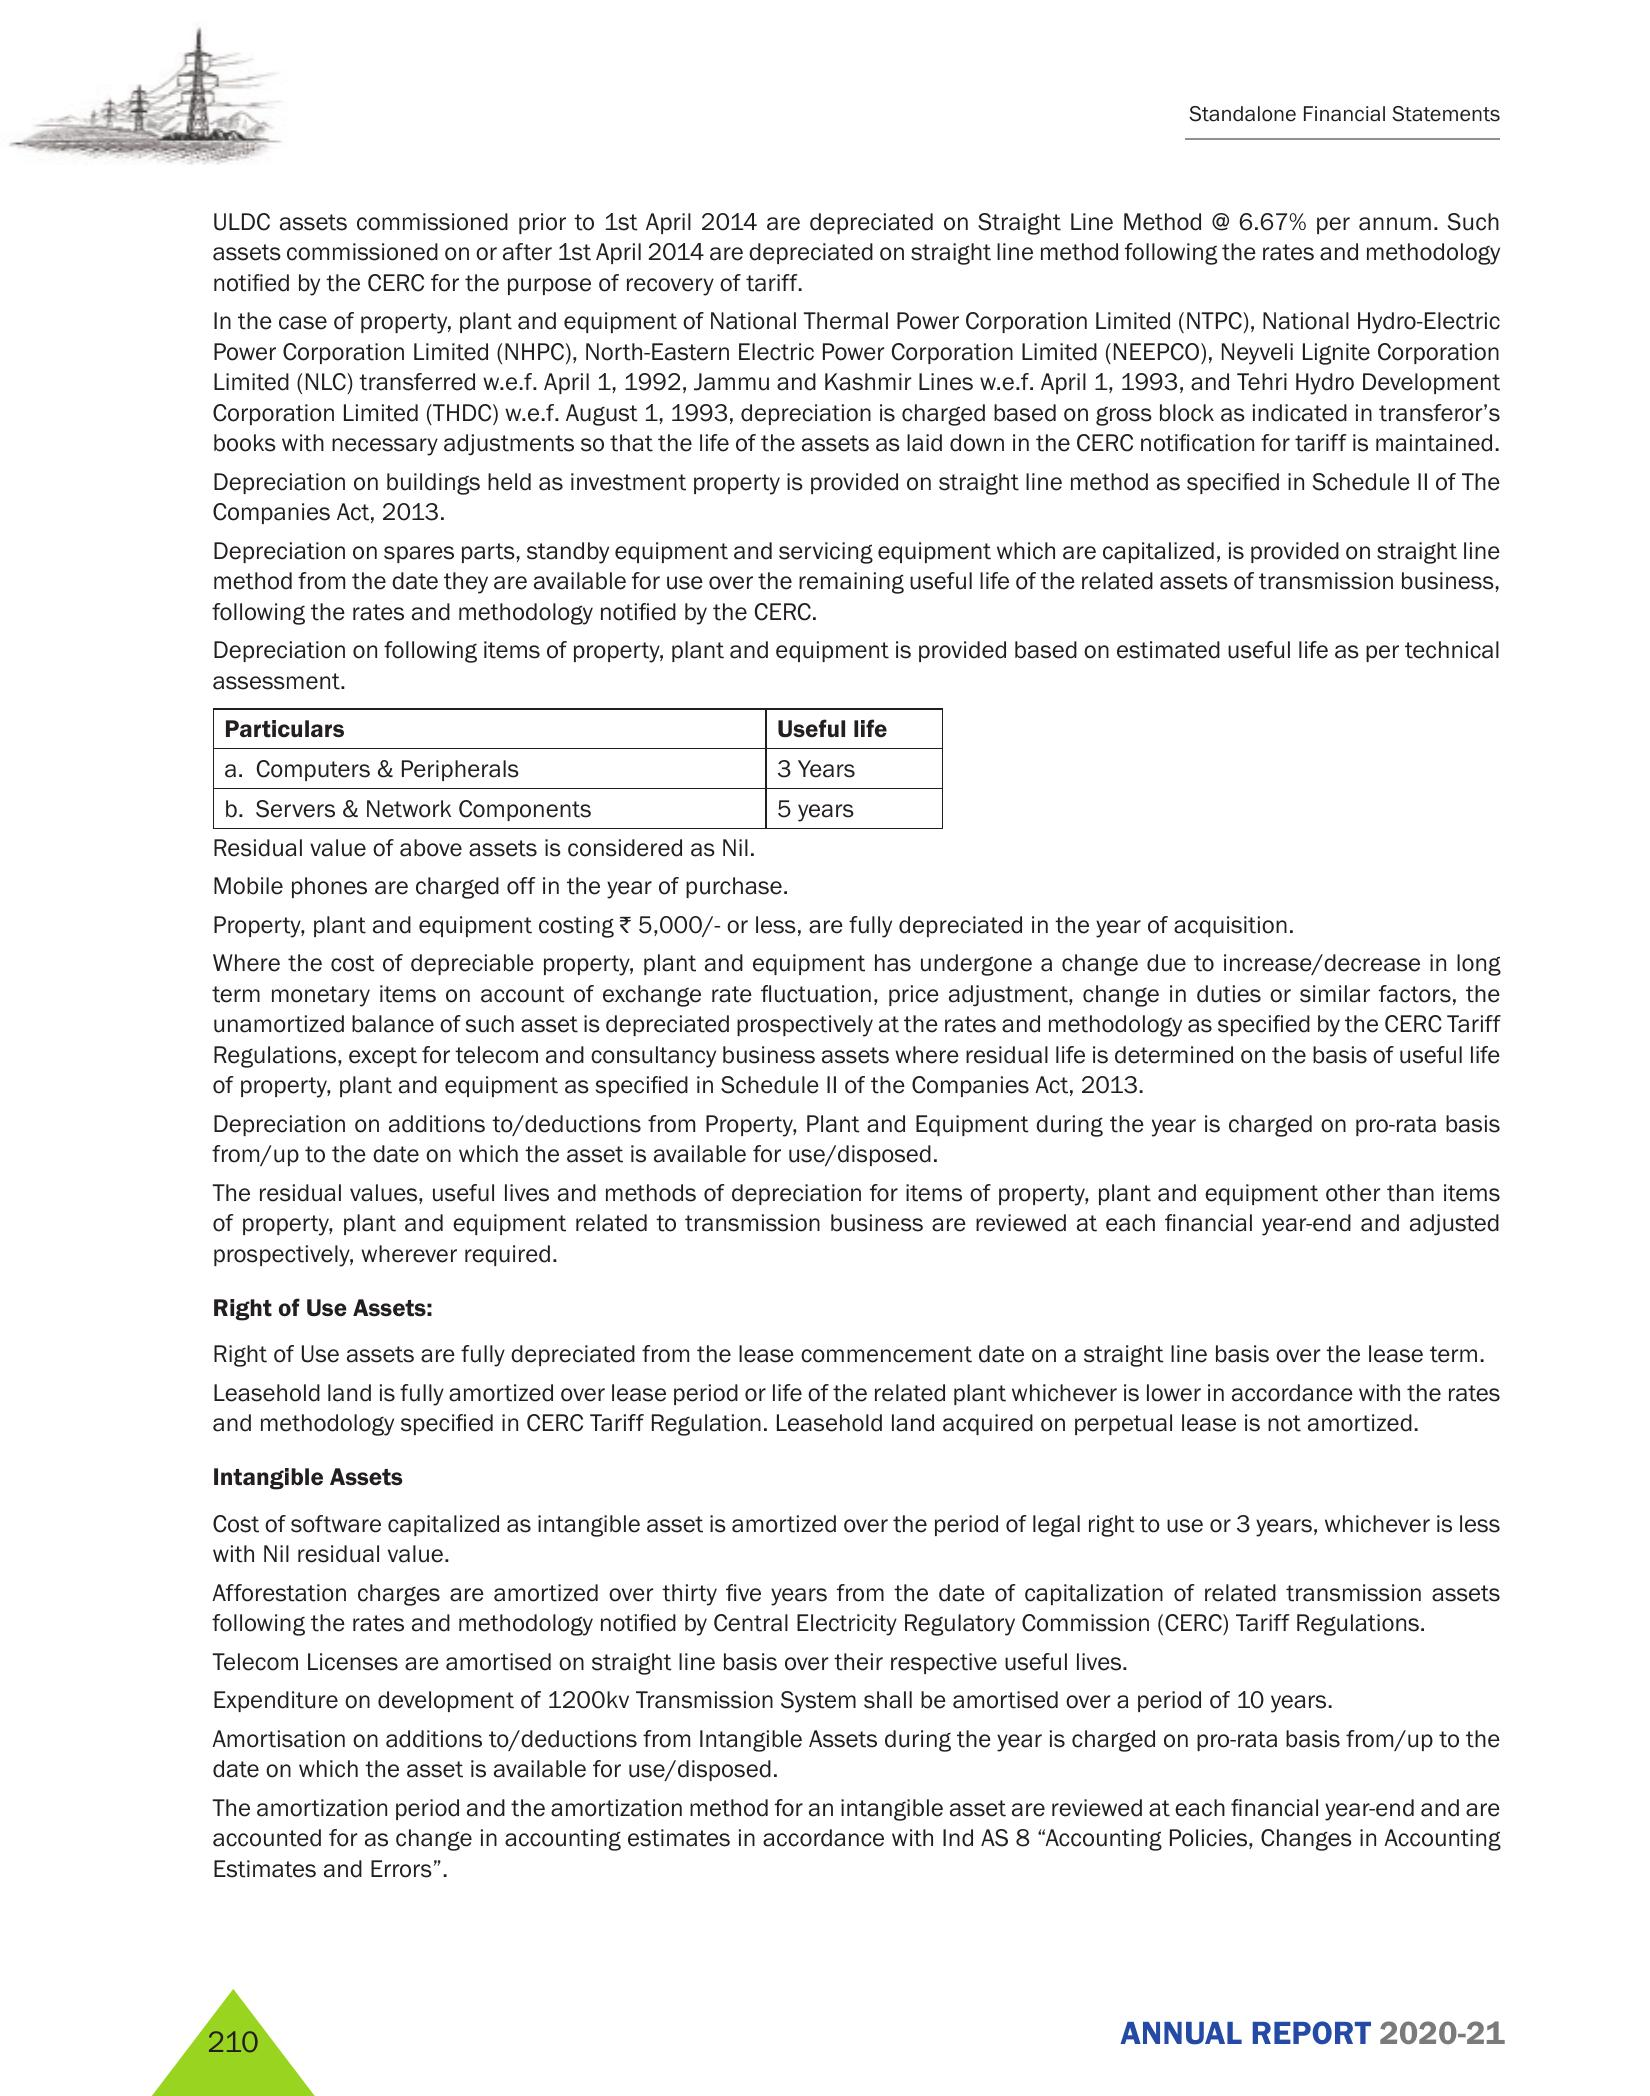Footer: (0, 1968, 1650, 2096)
Header: (0, 0, 1650, 172)
Table: (172, 703, 980, 842)
